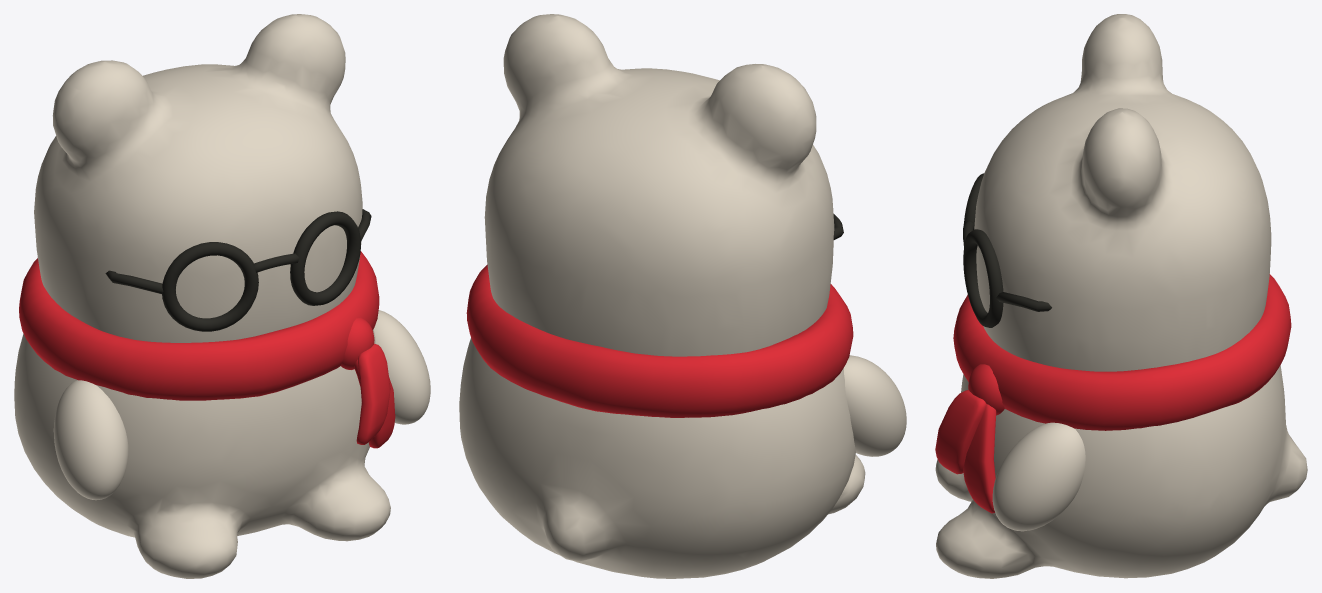
File: pooh.glb
3 renders of one model, left to right at view 1: azimuth 30°, elevation 25°; view 2: azimuth 150°, elevation 25°; view 3: azimuth 270°, elevation 25°, orthographic. The views are drawn at different scales.
Parts seen in each view (by area): view 1: Head, Body, Scarf, Glasses, ArmR, ArmL, ScarfTailB, ScarfTailA; view 2: Head, Body, Scarf, ArmR; view 3: Head, Body, Scarf, ArmL, Glasses, ScarfTailB, ScarfTailA.
Part boxes in pixels (left/top/right/bottom): Head: left=34, top=14, right=362, bottom=342; Body: left=14, top=329, right=390, bottom=578; Scarf: left=19, top=251, right=379, bottom=400; Glasses: left=105, top=209, right=371, bottom=331; ArmR: left=53, top=380, right=128, bottom=500; ArmL: left=373, top=310, right=430, bottom=424; ScarfTailB: left=356, top=343, right=390, bottom=444; ScarfTailA: left=354, top=359, right=395, bottom=448; Head: left=484, top=14, right=834, bottom=356; Body: left=459, top=338, right=865, bottom=578; Scarf: left=466, top=264, right=853, bottom=417; ArmR: left=844, top=355, right=906, bottom=456; Head: left=974, top=14, right=1271, bottom=371; Body: left=935, top=365, right=1307, bottom=578; Scarf: left=953, top=274, right=1291, bottom=430; ArmL: left=992, top=422, right=1085, bottom=531; Glasses: left=963, top=173, right=1051, bottom=327; ScarfTailB: left=935, top=390, right=986, bottom=474; ScarfTailA: left=963, top=404, right=996, bottom=513.
Size of the model in its own units: 1.28 by 1.57 by 1.13.
